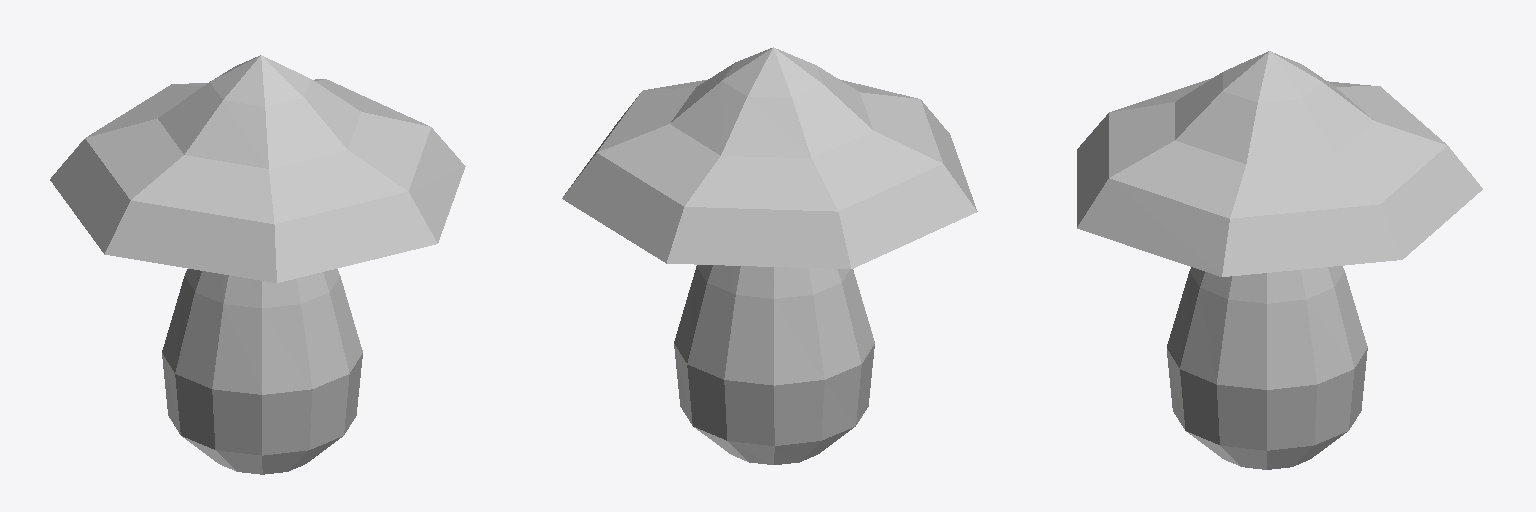
Rendered from points_shroom_fixed.obj.
3 views of the same model, side by side, from view 1: azimuth 30°, elevation 25°; view 2: azimuth 150°, elevation 25°; view 3: azimuth 270°, elevation 25° (orthographic).
Visible parts, largest first — view 1: points_shroom; view 2: points_shroom; view 3: points_shroom.
Part boxes in pixels (x1,y1,x2,y2): points_shroom: (50, 55, 465, 474); points_shroom: (562, 47, 977, 464); points_shroom: (1077, 51, 1482, 469).
Size of the model in its own units: 0.1123 by 0.1217 by 0.1095.